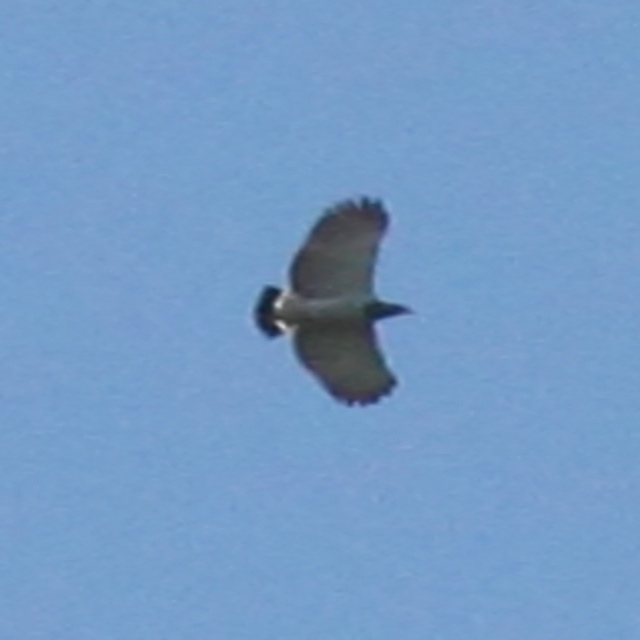Eagle: (242, 190, 418, 412)
